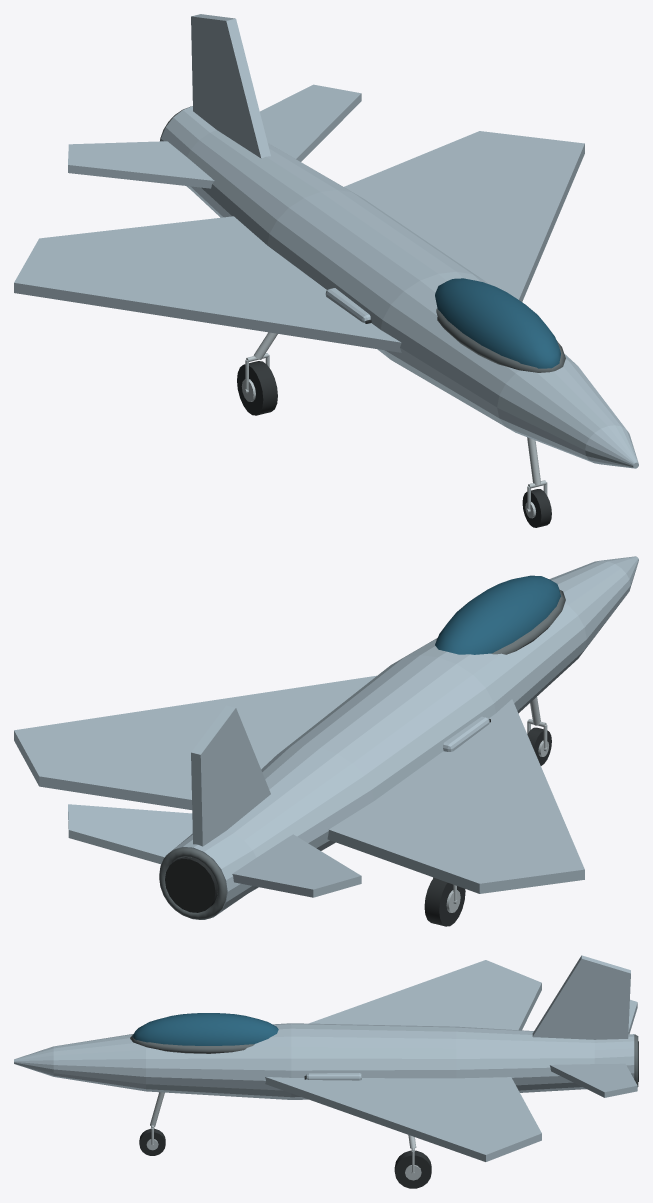
The model's file is fighter_jet.glb.
The picture shows the model from 3 angles, top to bottom: view 1: azimuth 30°, elevation 25°; view 2: azimuth 150°, elevation 25°; view 3: azimuth 270°, elevation 25°; orthographic projection. The views are drawn at different scales.
Visible parts, largest first — view 1: Jet streamlined closed fuselage, Jet swept delta main wing, Jet swept delta main wing.001, Jet swept vertical tail fin, Jet opaque cockpit canopy, Jet rear horizontal stabilizer, Jet rear horizontal stabilizer.001, Jet main landing wheel tire, Jet cockpit canopy surround, Jet nose landing wheel tire; view 2: Jet streamlined closed fuselage, Jet swept delta main wing, Jet swept delta main wing.001, Jet swept vertical tail fin, Jet opaque cockpit canopy, Jet rear horizontal stabilizer.001, Jet rear horizontal stabilizer, Jet recessed rear exhaust, Jet engine nozzle rim, Jet main landing wheel tire, Jet cockpit canopy surround, Jet side intake housing; view 3: Jet streamlined closed fuselage, Jet swept delta main wing.001, Jet swept delta main wing, Jet swept vertical tail fin, Jet opaque cockpit canopy, Jet rear horizontal stabilizer.001, Jet main landing wheel tire.001, Jet cockpit canopy surround, Jet nose landing wheel tire, Jet side intake housing.001.
Boxes of the visible parts, box(x1,y1,x2,y2) form: Jet streamlined closed fuselage: box(160, 106, 638, 468); Jet swept delta main wing: box(14, 216, 401, 352); Jet swept delta main wing.001: box(344, 131, 584, 301); Jet swept vertical tail fin: box(191, 14, 270, 158); Jet opaque cockpit canopy: box(435, 278, 560, 368); Jet rear horizontal stabilizer: box(68, 141, 214, 188); Jet rear horizontal stabilizer.001: box(260, 84, 361, 161); Jet main landing wheel tire: box(237, 361, 277, 415); Jet cockpit canopy surround: box(436, 308, 565, 372); Jet nose landing wheel tire: box(522, 489, 551, 527); Jet streamlined closed fuselage: box(160, 556, 638, 919); Jet swept delta main wing: box(327, 699, 584, 893); Jet swept delta main wing.001: box(14, 675, 376, 809); Jet swept vertical tail fin: box(191, 705, 270, 846); Jet opaque cockpit canopy: box(435, 575, 560, 654); Jet rear horizontal stabilizer.001: box(68, 804, 192, 864); Jet rear horizontal stabilizer: box(232, 834, 361, 897); Jet recessed rear exhaust: box(165, 857, 217, 912); Jet engine nozzle rim: box(159, 847, 226, 919); Jet main landing wheel tire: box(424, 878, 465, 926); Jet cockpit canopy surround: box(436, 590, 565, 654); Jet side intake housing: box(443, 716, 489, 751); Jet streamlined closed fuselage: box(14, 1023, 634, 1099); Jet swept delta main wing.001: box(265, 1077, 541, 1161); Jet swept delta main wing: box(309, 960, 541, 1030); Jet swept vertical tail fin: box(532, 955, 630, 1039); Jet opaque cockpit canopy: box(132, 1013, 278, 1045); Jet rear horizontal stabilizer.001: box(550, 1063, 637, 1097); Jet main landing wheel tire.001: box(394, 1150, 431, 1188); Jet cockpit canopy surround: box(130, 1034, 254, 1053); Jet nose landing wheel tire: box(139, 1128, 165, 1155); Jet side intake housing.001: box(306, 1073, 361, 1080).
Bounding box in the file's own units: 7 × 3.3 × 9.47.
